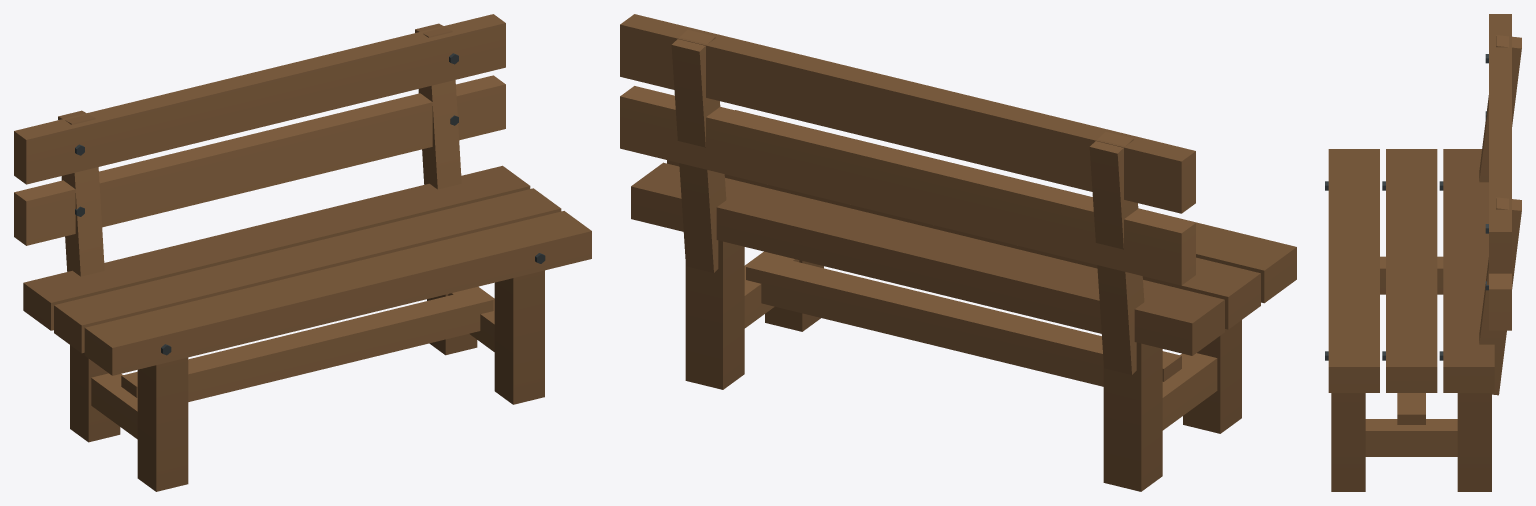
The model's file is town_bench.glb.
3 renders of one model, left to right at view 1: azimuth 30°, elevation 25°; view 2: azimuth 150°, elevation 25°; view 3: azimuth 270°, elevation 25°, orthographic. The views are drawn at different scales.
Visible parts, largest first — view 1: town_bench; view 2: town_bench; view 3: town_bench.
Boxes of the visible parts, <box> form: town_bench: <box>14,14,591,491</box>; town_bench: <box>620,14,1296,491</box>; town_bench: <box>1325,14,1521,491</box>.
Bounding box in the file's own units: 1.8 × 1.09 × 0.6867.
